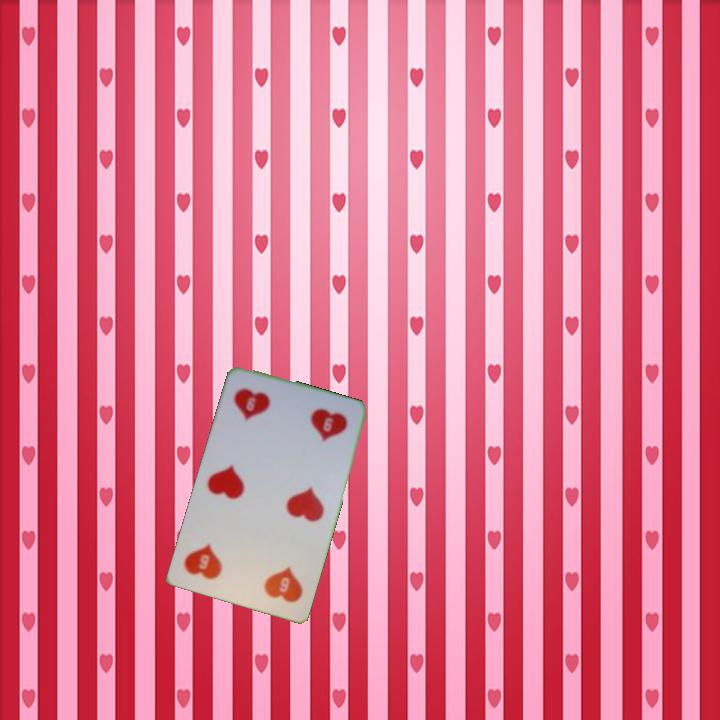h_6.png: (221, 374, 300, 448), (235, 539, 315, 612)
